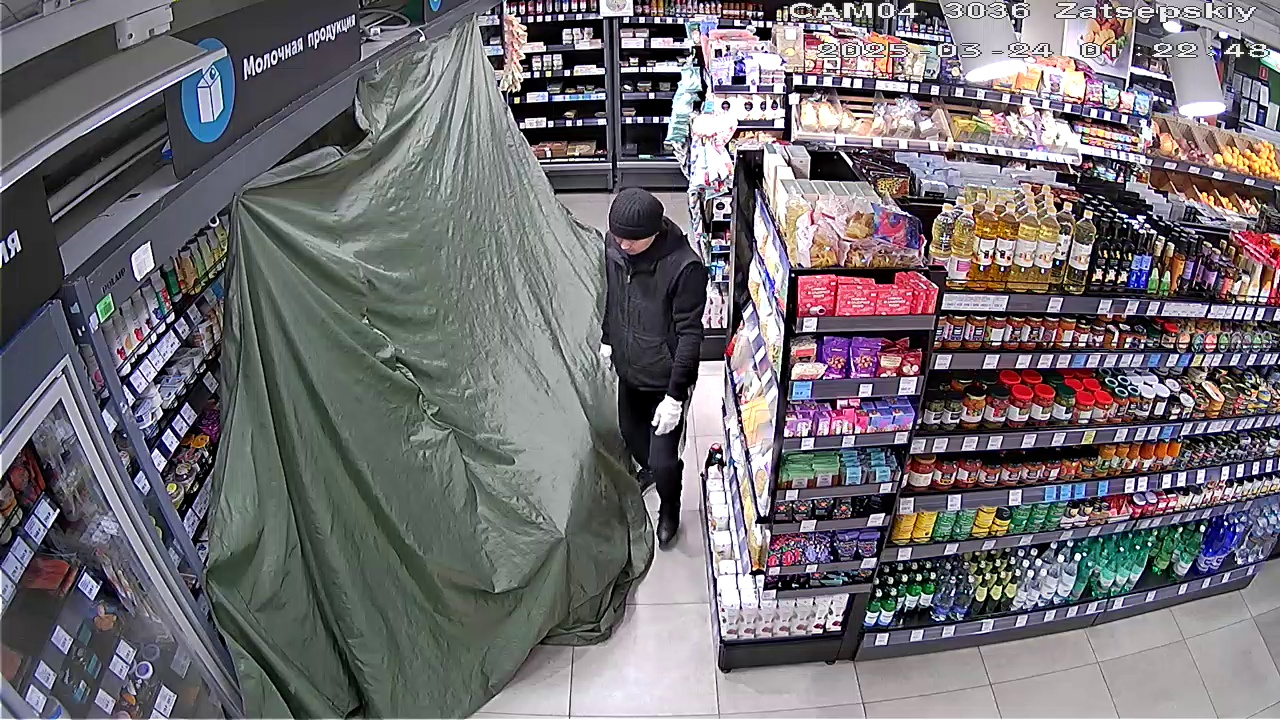Human: (588, 183, 712, 549)
dome: (213, 34, 643, 718)
